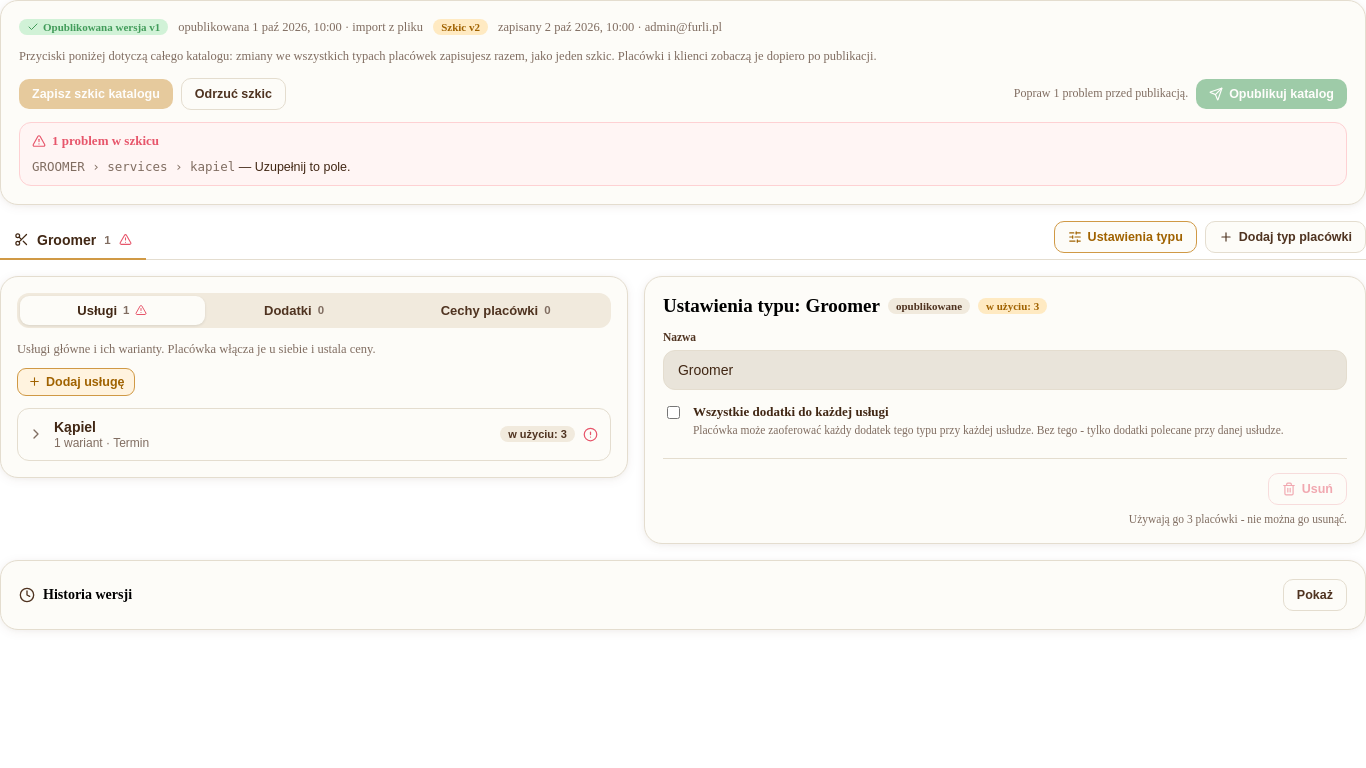
Test case: Katalog usług › refuses to publish while the draft has issues and points at them
Expected: the text "Popraw 1 problem przed publikacją." is shown, top-left (1014, 86), bottom-right (1188, 101)
Expected: the button "Opublikuj katalog" is disabled, top-left (1196, 79), bottom-right (1347, 109)
Click the button "GROOMER › services › kapiel — Uzupełnij to pole." at (191, 166), box top-left (32, 159), bottom-right (351, 174)
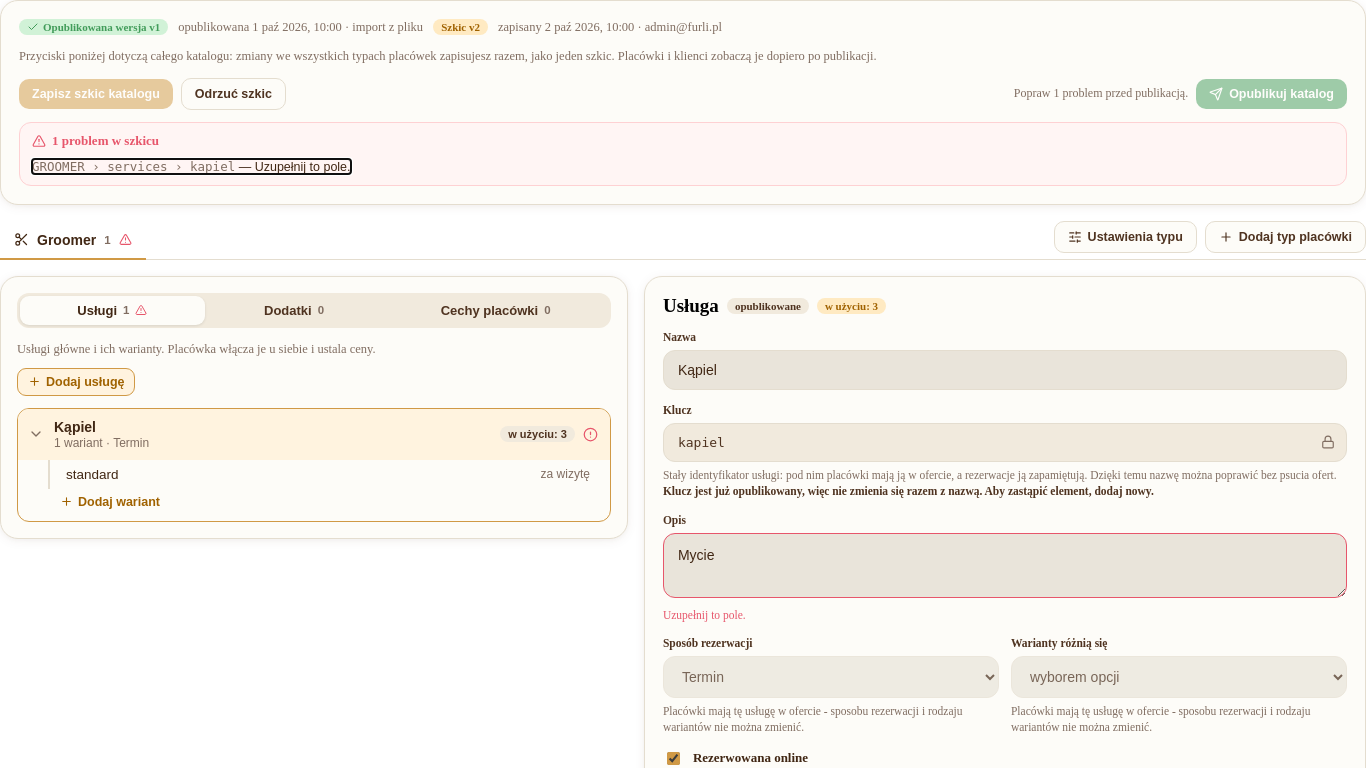
Result: the heading "Usługa" is shown at top-left (663, 295), bottom-right (719, 317)
Result: the message reads "Uzupełnij to pole." at top-left (663, 609), bottom-right (746, 621)
